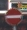No entry: (5, 6, 22, 25)
